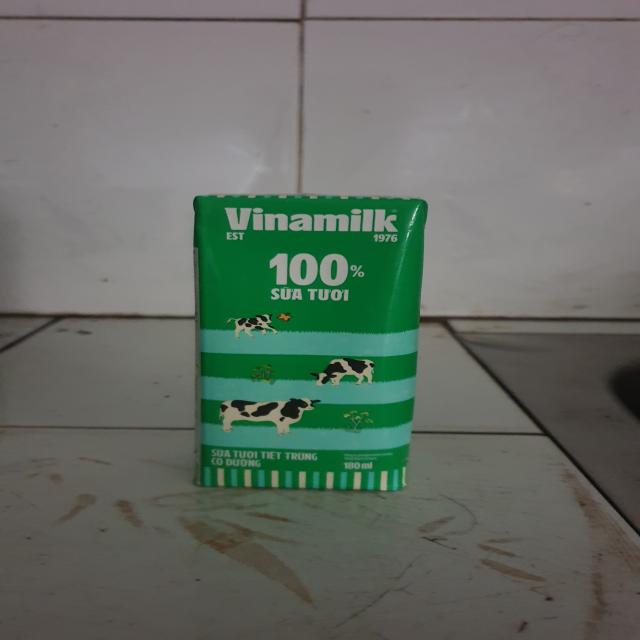Vina: (187, 189, 436, 497)
